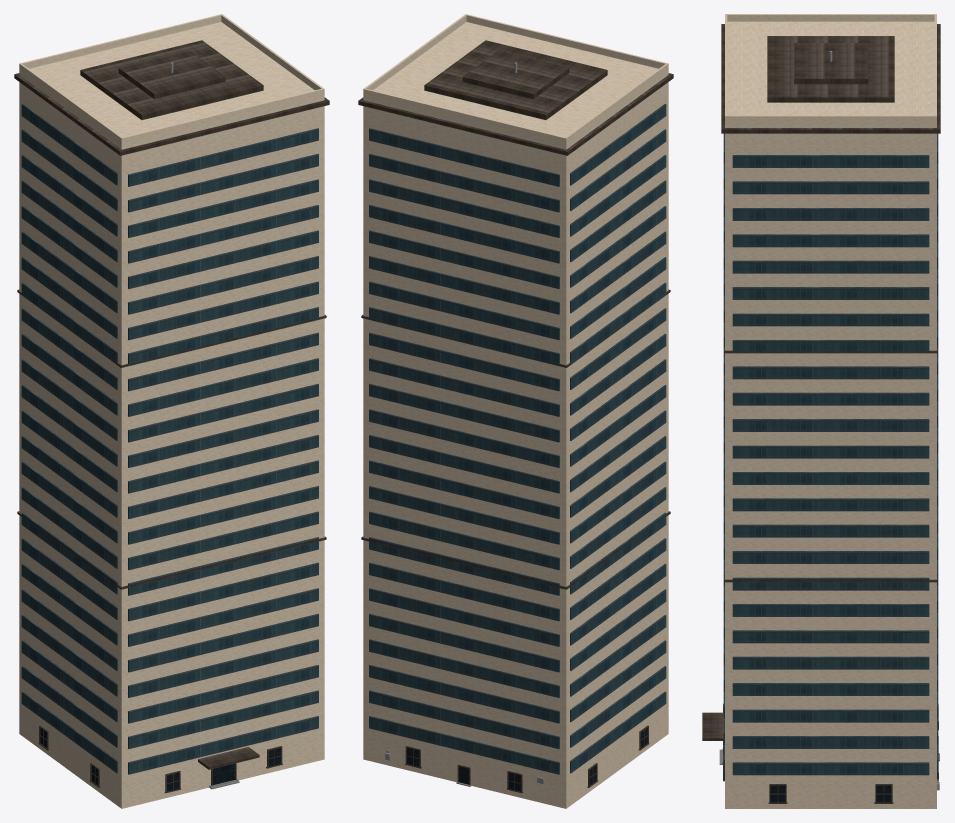
The model's file is campus-court-tower_lod0.gltf.
The picture shows the model from 3 angles, left to right: view 1: azimuth 30°, elevation 25°; view 2: azimuth 150°, elevation 25°; view 3: azimuth 270°, elevation 25°; orthographic projection. The views are drawn at different scales.
Visible parts, largest first — view 1: campus-court-tower_main, campus-court-tower_fen_07-glass-curtain-blue_0, campus-court-tower__crown_step_1, campus-court-tower__crown_step_2, campus-court-tower__cornice, campus-court-tower__parapet_front, campus-court-tower__parapet_back, campus-court-tower_fen_07-glass-curtain-blue_2_t, campus-court-tower__parapet_left, campus-court-tower__parapet_right, campus-court-tower__string_course_1, campus-court-tower__marquee (+2 smaller); view 2: campus-court-tower_main, campus-court-tower_fen_07-glass-curtain-blue_0, campus-court-tower__crown_step_1, campus-court-tower__crown_step_2, campus-court-tower__cornice, campus-court-tower__parapet_back, campus-court-tower__parapet_front, campus-court-tower__parapet_left, campus-court-tower__parapet_right, campus-court-tower_fen_07-glass-curtain-blue_2_t, campus-court-tower__string_course_1, campus-court-tower_fen_12-bronze-metal_1; view 3: campus-court-tower_main, campus-court-tower_fen_07-glass-curtain-blue_0, campus-court-tower__crown_step_1, campus-court-tower__crown_step_2, campus-court-tower__cornice, campus-court-tower__parapet_right, campus-court-tower__parapet_left, campus-court-tower__string_course_1, campus-court-tower__string_course_2, campus-court-tower__marquee, campus-court-tower_fen_07-glass-curtain-blue_2_t, campus-court-tower_fen_12-bronze-metal_1.
Boxes of the visible parts, x1=… form: campus-court-tower_main: x1=19, y1=22, x2=324, y2=808; campus-court-tower_fen_07-glass-curtain-blue_0: x1=21, y1=103, x2=318, y2=774; campus-court-tower__crown_step_1: x1=80, y1=40, x2=263, y2=119; campus-court-tower__crown_step_2: x1=118, y1=50, x2=225, y2=99; campus-court-tower__cornice: x1=14, y1=73, x2=329, y2=155; campus-court-tower__parapet_front: x1=120, y1=88, x2=324, y2=144; campus-court-tower__parapet_back: x1=19, y1=14, x2=222, y2=70; campus-court-tower_fen_07-glass-curtain-blue_2_t: x1=40, y1=728, x2=280, y2=791; campus-court-tower__parapet_left: x1=20, y1=64, x2=121, y2=143; campus-court-tower__parapet_right: x1=221, y1=15, x2=323, y2=90; campus-court-tower__string_course_1: x1=17, y1=511, x2=326, y2=589; campus-court-tower__marquee: x1=198, y1=747, x2=259, y2=769; campus-court-tower_main: x1=363, y1=22, x2=668, y2=808; campus-court-tower_fen_07-glass-curtain-blue_0: x1=369, y1=103, x2=666, y2=774; campus-court-tower__crown_step_1: x1=424, y1=40, x2=607, y2=119; campus-court-tower__crown_step_2: x1=462, y1=50, x2=569, y2=99; campus-court-tower__cornice: x1=358, y1=73, x2=673, y2=155; campus-court-tower__parapet_back: x1=363, y1=88, x2=567, y2=144; campus-court-tower__parapet_front: x1=465, y1=14, x2=668, y2=70; campus-court-tower__parapet_left: x1=566, y1=64, x2=667, y2=143; campus-court-tower__parapet_right: x1=364, y1=15, x2=466, y2=90; campus-court-tower_fen_07-glass-curtain-blue_2_t: x1=407, y1=728, x2=647, y2=791; campus-court-tower__string_course_1: x1=361, y1=511, x2=670, y2=589; campus-court-tower_fen_12-bronze-metal_1: x1=405, y1=725, x2=649, y2=793; campus-court-tower_main: x1=725, y1=21, x2=936, y2=808; campus-court-tower_fen_07-glass-curtain-blue_0: x1=723, y1=133, x2=938, y2=775; campus-court-tower__crown_step_1: x1=767, y1=36, x2=894, y2=102; campus-court-tower__crown_step_2: x1=794, y1=43, x2=867, y2=84; campus-court-tower__cornice: x1=721, y1=24, x2=940, y2=133; campus-court-tower__parapet_right: x1=727, y1=115, x2=934, y2=123; campus-court-tower__parapet_left: x1=727, y1=14, x2=934, y2=21; campus-court-tower__string_course_1: x1=723, y1=576, x2=938, y2=582; campus-court-tower__string_course_2: x1=723, y1=347, x2=938, y2=353; campus-court-tower__marquee: x1=702, y1=712, x2=723, y2=740; campus-court-tower_fen_07-glass-curtain-blue_2_t: x1=724, y1=772, x2=937, y2=802; campus-court-tower_fen_12-bronze-metal_1: x1=723, y1=703, x2=938, y2=803.
Size of the model in its own units: 33 by 103 by 31.5.
